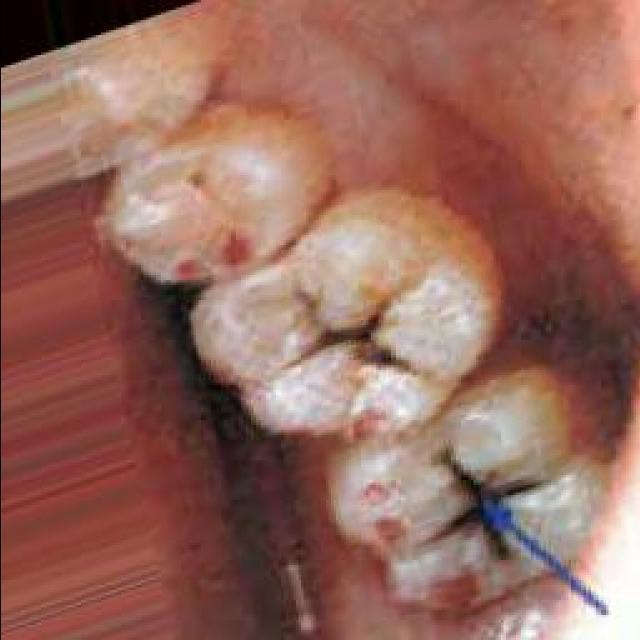caries: (258, 275, 418, 400), (410, 445, 542, 573)
